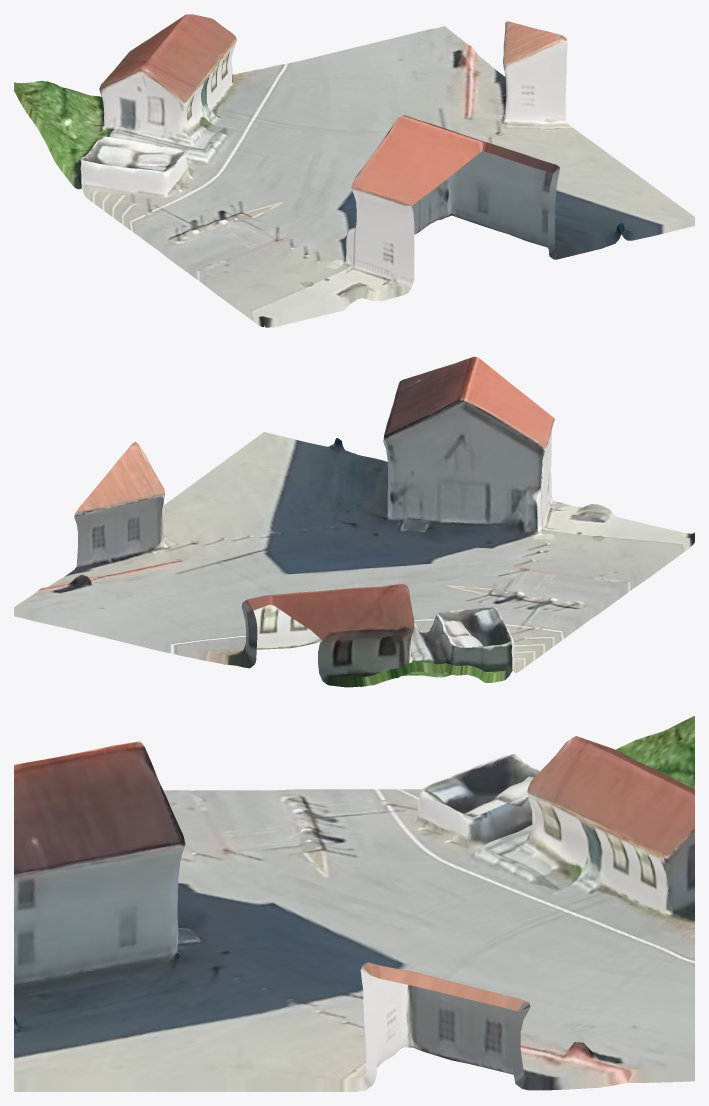
Rendered from z20-167565-405173-h0-yup-uvflip-v3-world.glb.
3 views of the same model, one above another, from view 1: azimuth 30°, elevation 25°; view 2: azimuth 150°, elevation 25°; view 3: azimuth 270°, elevation 25° (orthographic). The views are drawn at different scales.
Size of the model in its own units: 30.16 by 9.16 by 30.32.
Materials: 1 (1 with a texture image).
